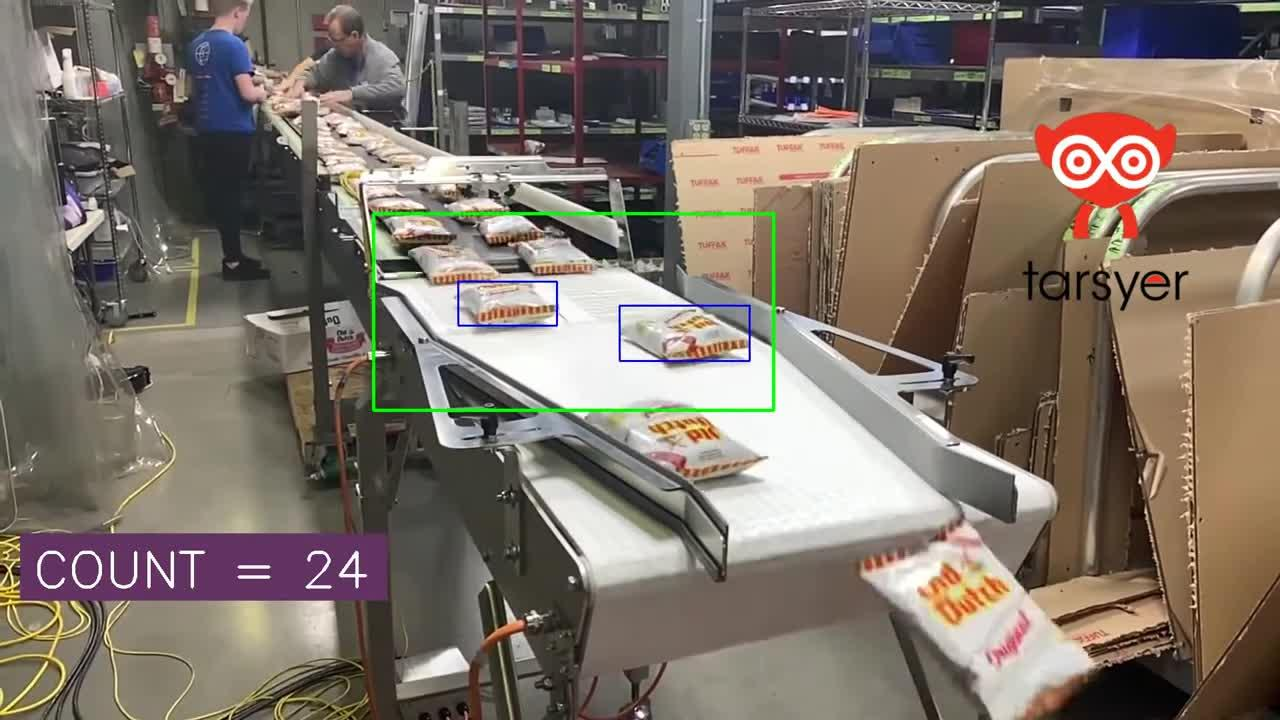Snack: (860, 522, 1091, 719), (587, 402, 764, 479), (621, 306, 748, 360), (459, 282, 556, 324), (408, 245, 498, 284), (512, 236, 596, 274), (380, 215, 452, 244), (477, 215, 544, 245), (445, 197, 506, 212), (367, 196, 426, 211), (384, 151, 425, 166), (361, 185, 402, 200), (429, 183, 461, 201), (325, 160, 366, 174)
